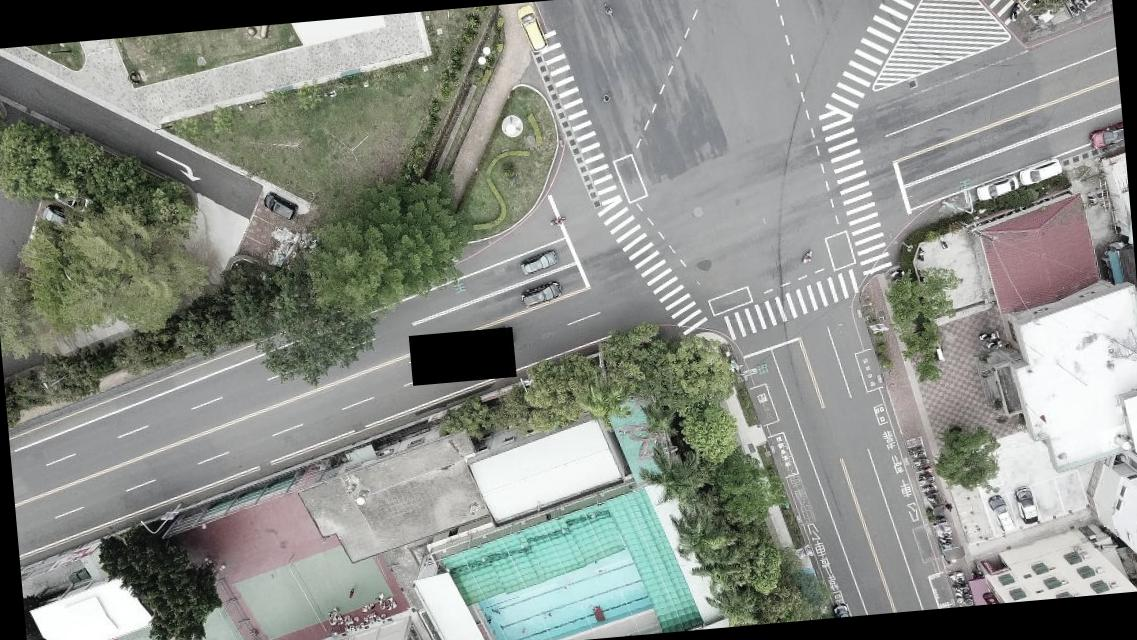vehicle: (512, 1, 548, 57), (974, 174, 1019, 203), (1019, 157, 1062, 187), (520, 281, 562, 309), (262, 190, 298, 222), (986, 494, 1014, 534), (1014, 485, 1040, 527), (518, 249, 558, 276), (1087, 122, 1123, 152), (829, 604, 850, 618)
